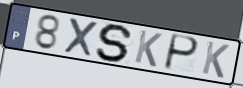8: (34, 13, 62, 51)
K: (200, 39, 231, 80), (133, 28, 164, 69)
P: (162, 33, 201, 72)
S: (94, 23, 135, 63)
X: (62, 16, 100, 59)
